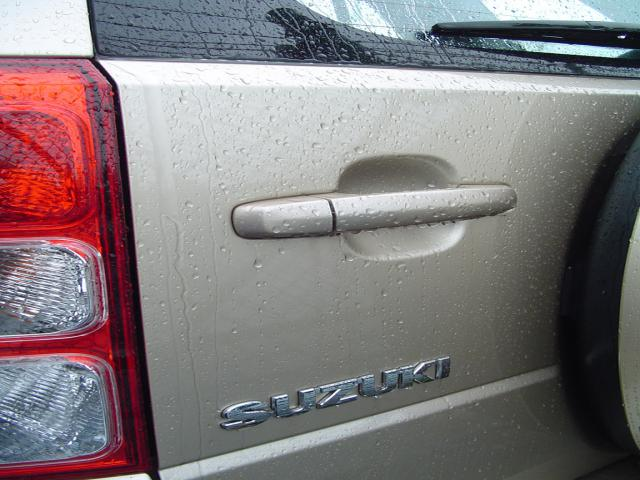Door-handle: (229, 180, 522, 244)
